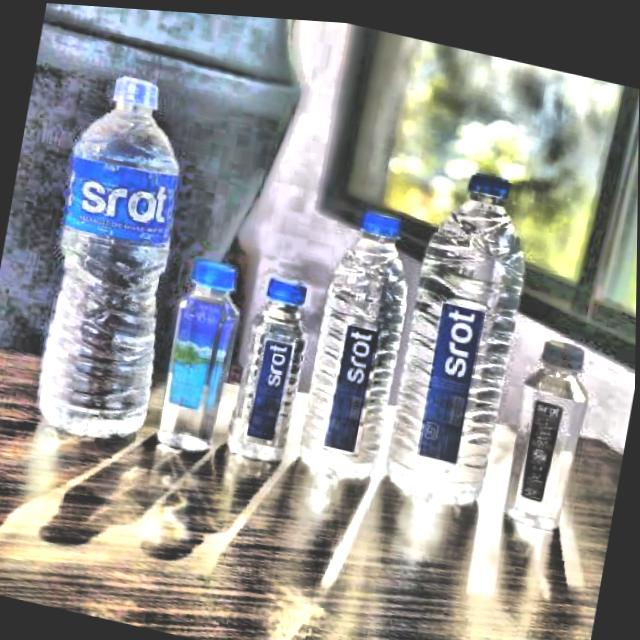Bottles: (22, 55, 205, 466), (375, 145, 551, 516), (291, 190, 433, 479), (151, 238, 260, 478), (219, 254, 329, 479)
